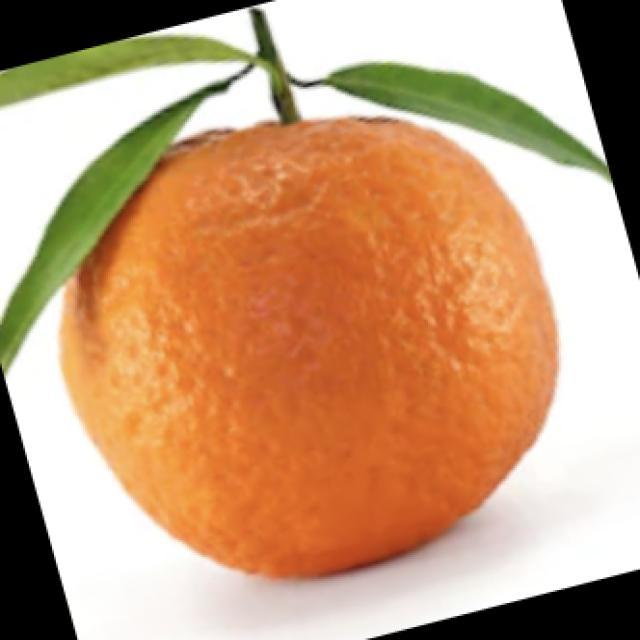Orange: (57, 114, 560, 579)
